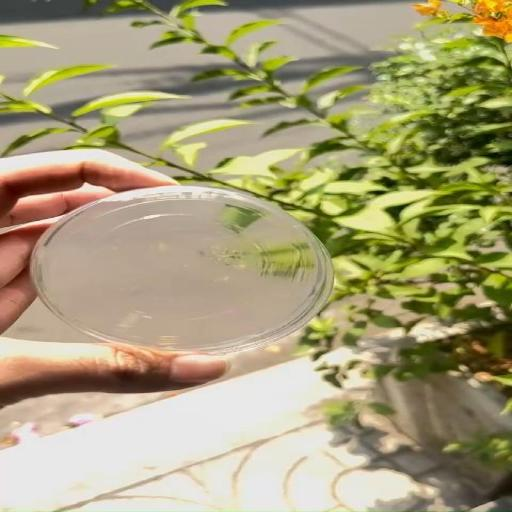ly_giay: (31, 185, 332, 354)
